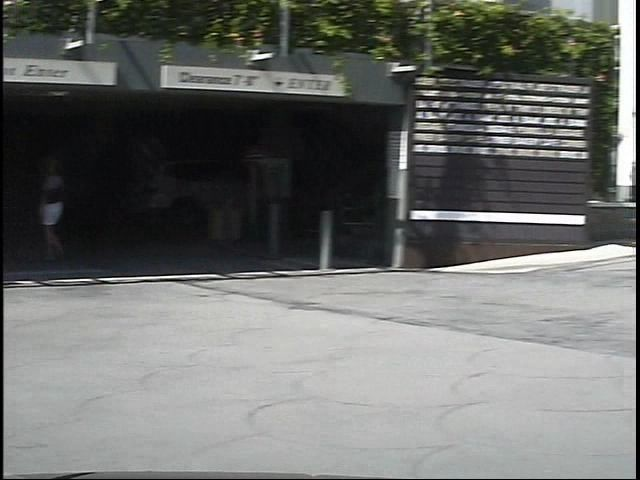person: (20, 145, 67, 268)
